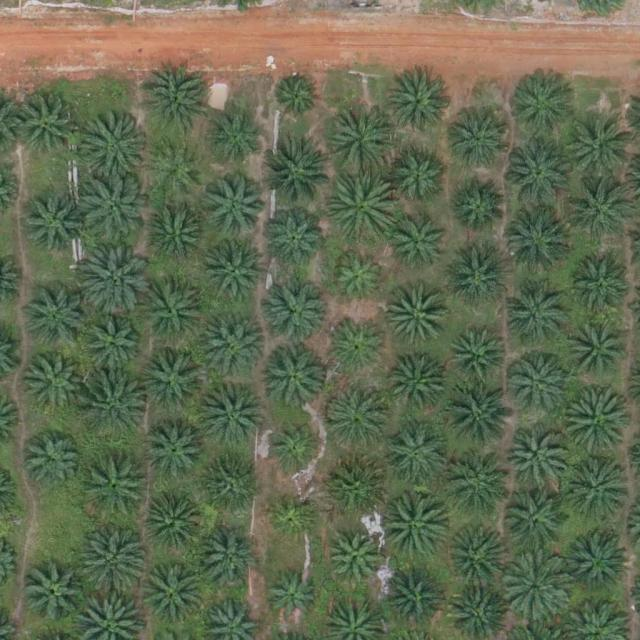Healthy: (80, 111, 151, 182), (81, 456, 152, 527), (330, 110, 401, 181), (500, 205, 571, 276), (82, 177, 152, 248), (79, 371, 149, 442), (77, 526, 147, 597), (139, 345, 209, 416), (139, 277, 210, 347), (142, 66, 212, 137), (262, 143, 332, 214), (331, 175, 401, 246), (375, 490, 446, 560), (509, 70, 579, 141), (505, 275, 575, 346), (562, 389, 633, 459), (564, 110, 634, 181), (566, 175, 636, 246), (78, 248, 148, 318), (201, 310, 271, 380), (198, 382, 268, 452), (326, 382, 396, 452), (444, 382, 514, 452), (500, 139, 570, 209), (501, 552, 571, 622), (564, 454, 634, 524), (20, 433, 83, 496), (22, 354, 85, 417), (27, 287, 90, 350), (15, 94, 78, 157), (80, 316, 143, 379), (264, 282, 327, 345), (384, 423, 447, 486), (449, 461, 512, 524), (449, 107, 512, 170), (567, 528, 630, 591), (24, 562, 86, 625), (24, 193, 86, 256), (146, 492, 208, 555), (146, 419, 208, 482), (145, 203, 207, 266), (202, 244, 264, 307), (199, 459, 261, 522), (202, 527, 264, 590), (263, 346, 325, 409), (333, 456, 395, 519), (388, 75, 450, 138), (385, 291, 447, 354), (379, 566, 441, 629), (443, 523, 505, 586), (447, 245, 509, 308), (508, 353, 570, 416), (506, 425, 568, 488), (569, 254, 631, 317), (568, 319, 630, 382), (144, 563, 206, 625), (209, 177, 271, 239), (263, 207, 325, 269), (388, 352, 450, 414), (502, 492, 564, 554), (210, 113, 265, 168), (263, 571, 318, 626), (267, 489, 322, 544), (267, 418, 322, 473), (326, 531, 381, 586), (335, 251, 390, 306), (390, 151, 445, 206), (150, 144, 204, 200), (332, 321, 386, 376), (393, 218, 447, 273), (450, 326, 504, 381), (452, 177, 506, 232)
Small: (274, 76, 321, 123)
